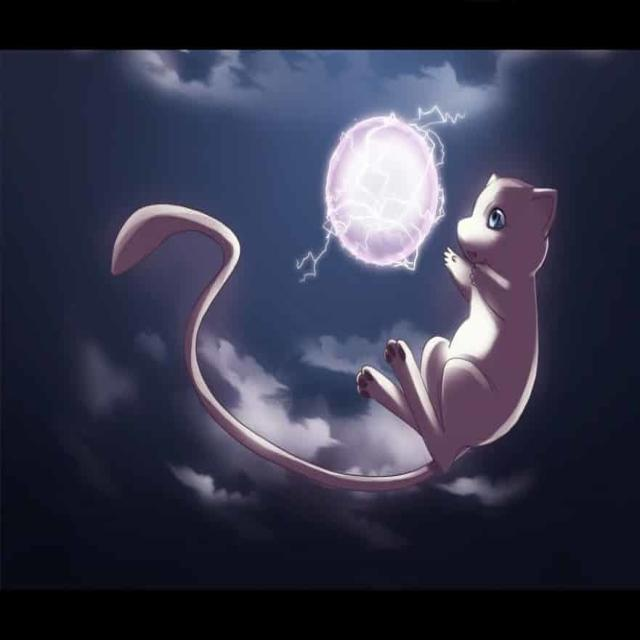Mew: (451, 163, 537, 474)
